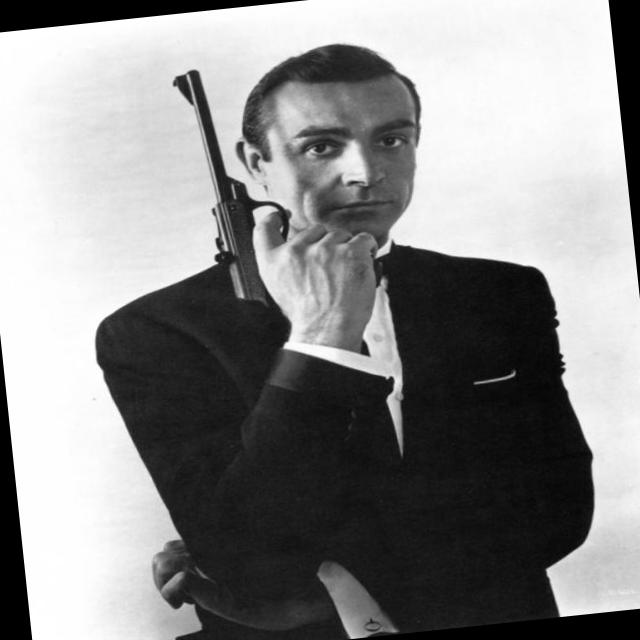Gun: (173, 69, 289, 302)
